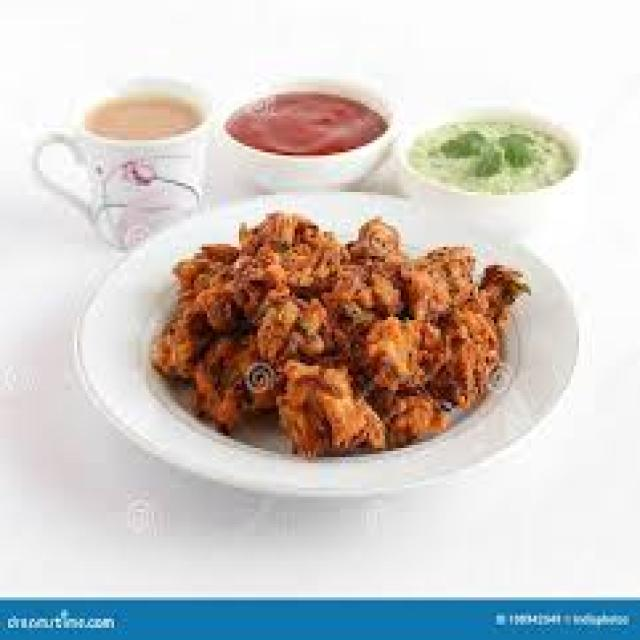BAJI: (151, 213, 528, 454)
